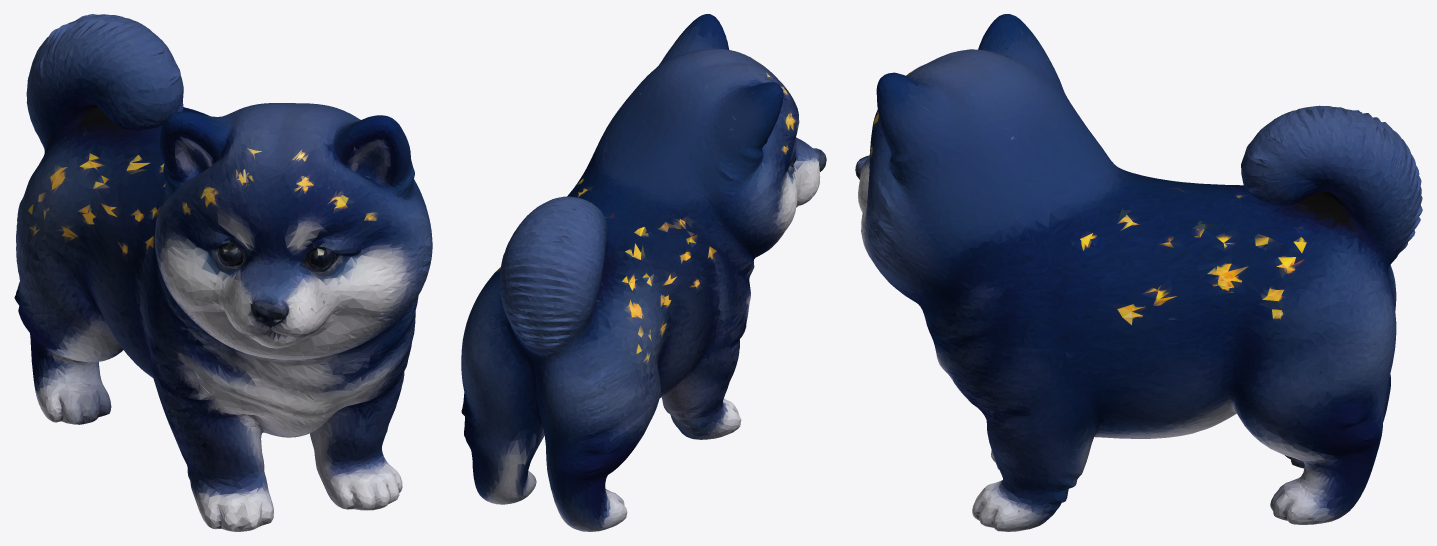
Rendered from pet_starshiba.glb.
The picture shows the model from 3 angles, left to right: view 1: azimuth 30°, elevation 25°; view 2: azimuth 150°, elevation 25°; view 3: azimuth 270°, elevation 25°; orthographic projection. The views are drawn at different scales.
Visible parts, largest first — view 1: starshiba; view 2: starshiba; view 3: starshiba.
Boxes of the visible parts, bbox=[...] form: starshiba: bbox=[14, 14, 432, 531]; starshiba: bbox=[461, 14, 826, 531]; starshiba: bbox=[855, 14, 1422, 531].
Size of the model in its own units: 0.6018 by 1 by 1.21.
1 material, 1 textured.
